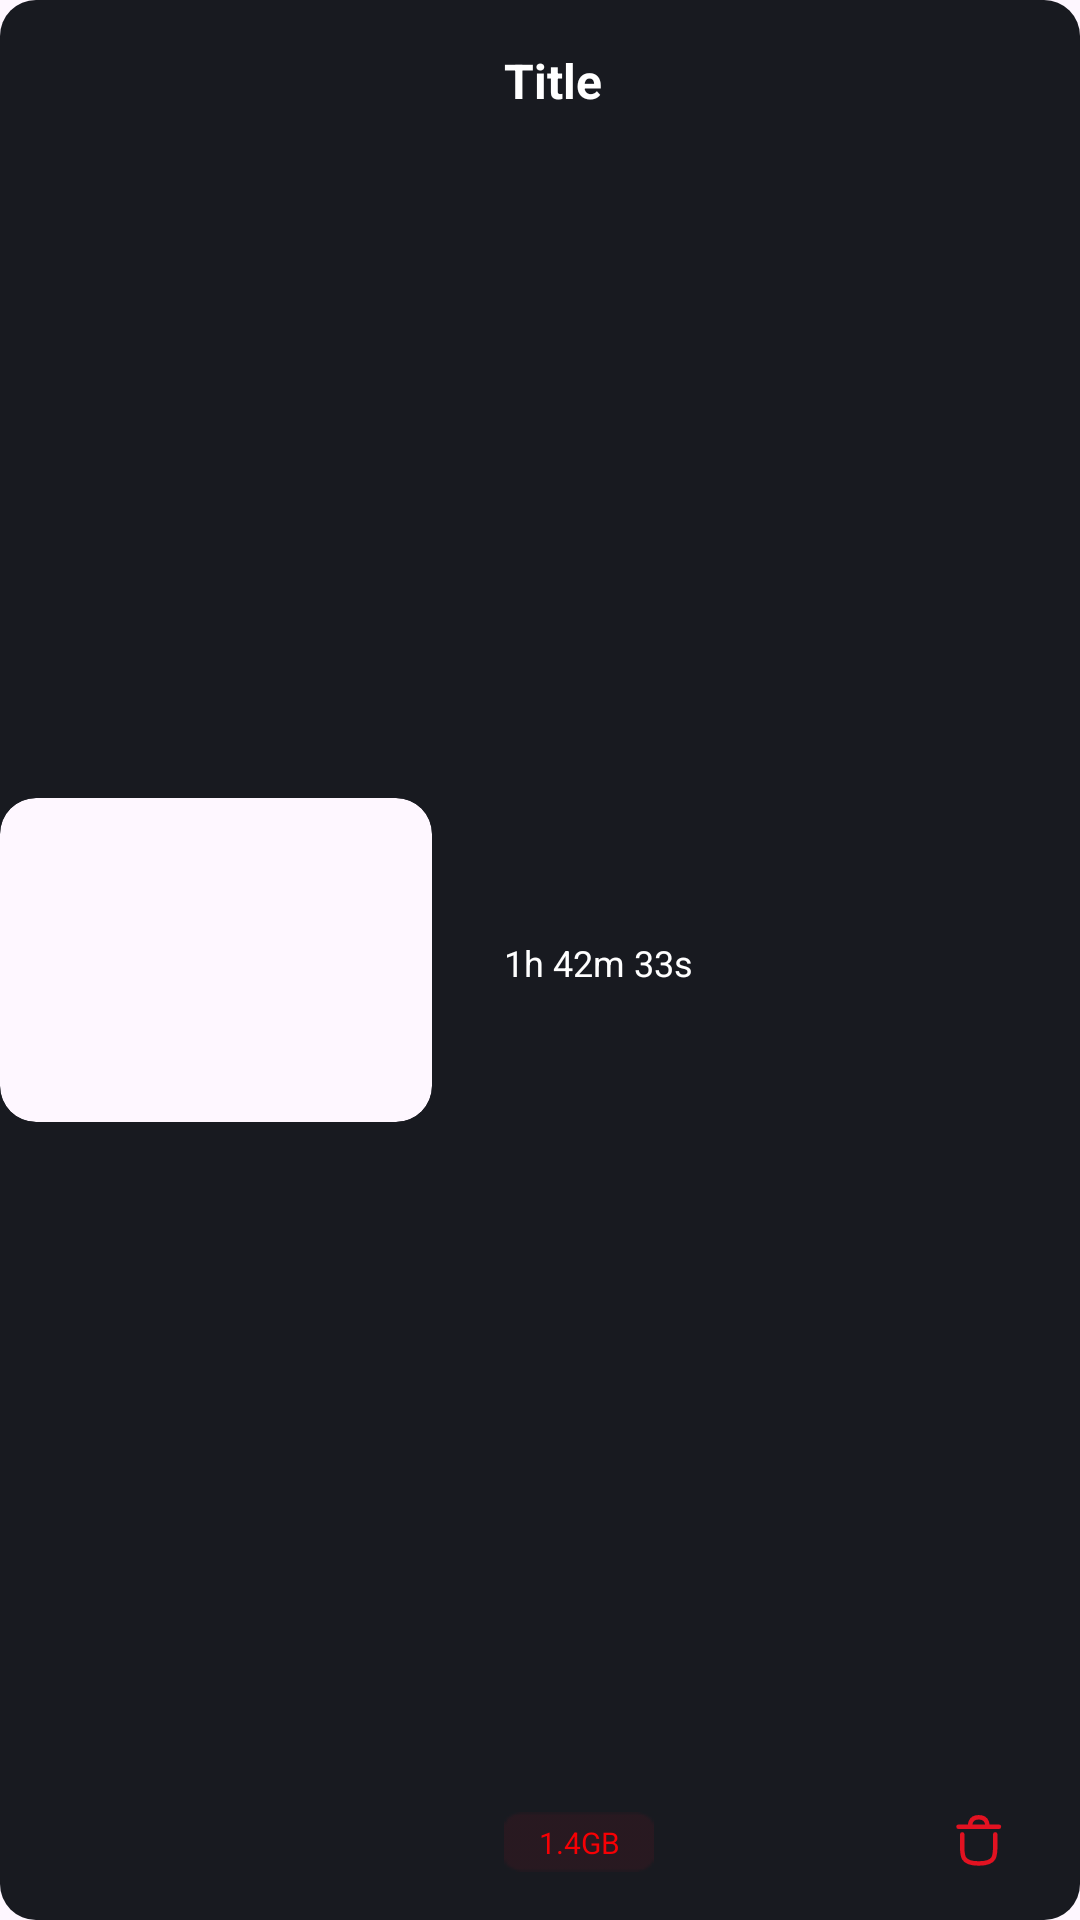

Icon click points for this 1080px x 1920px phone screenshot, format [x,y]:
trash bin: [978,1840]
